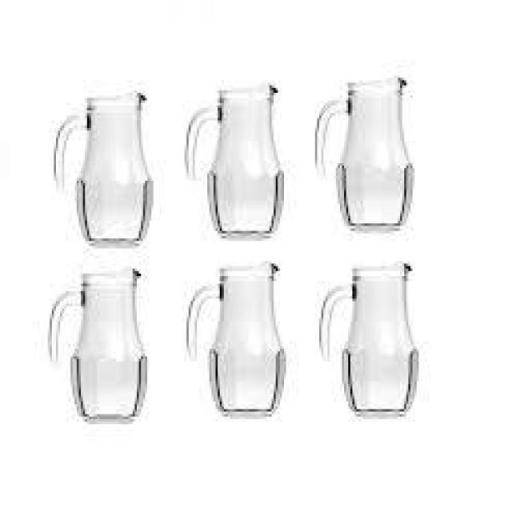glass: (318, 261, 418, 415), (184, 82, 283, 237), (317, 76, 413, 230), (52, 268, 146, 420), (190, 264, 284, 414), (58, 93, 150, 245)
